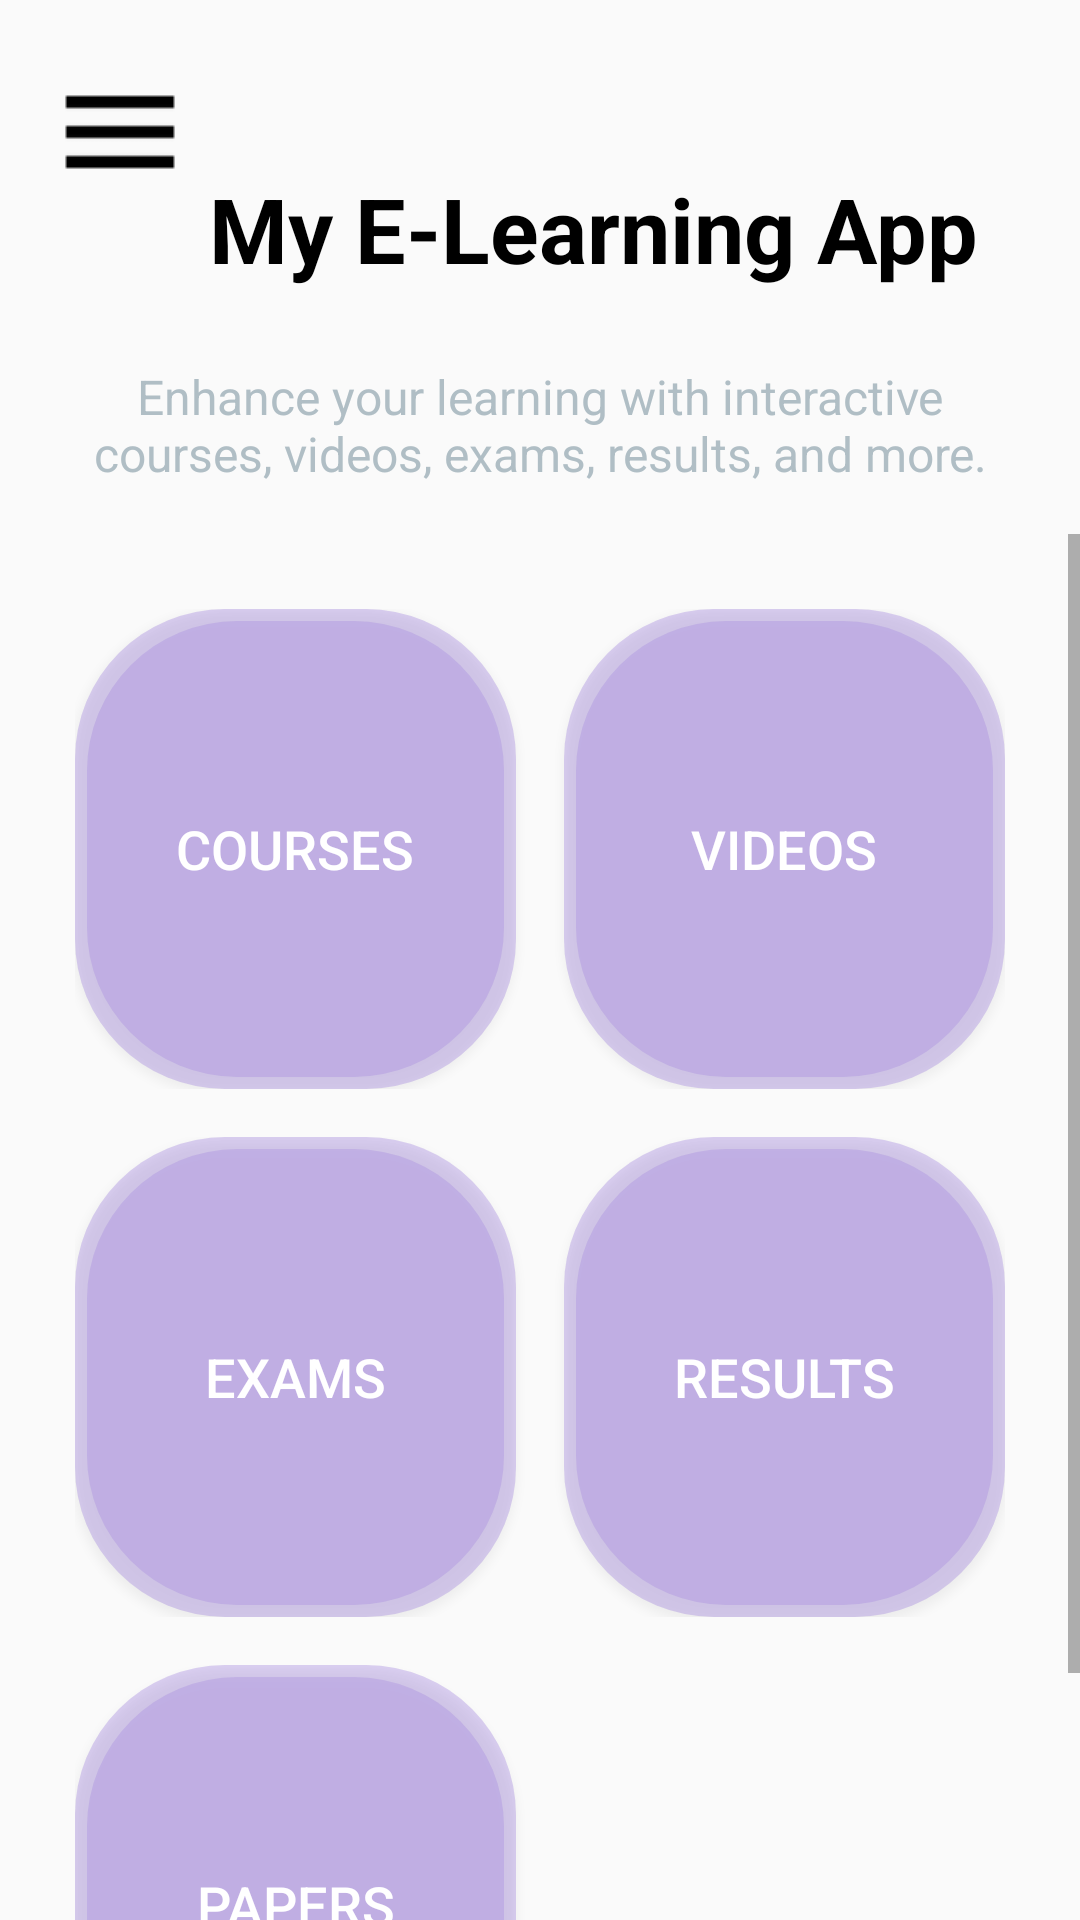

Screen size 1080px×1920px. Icon name, then its center in pixels as [x,y]:
Menu: [120,132]
